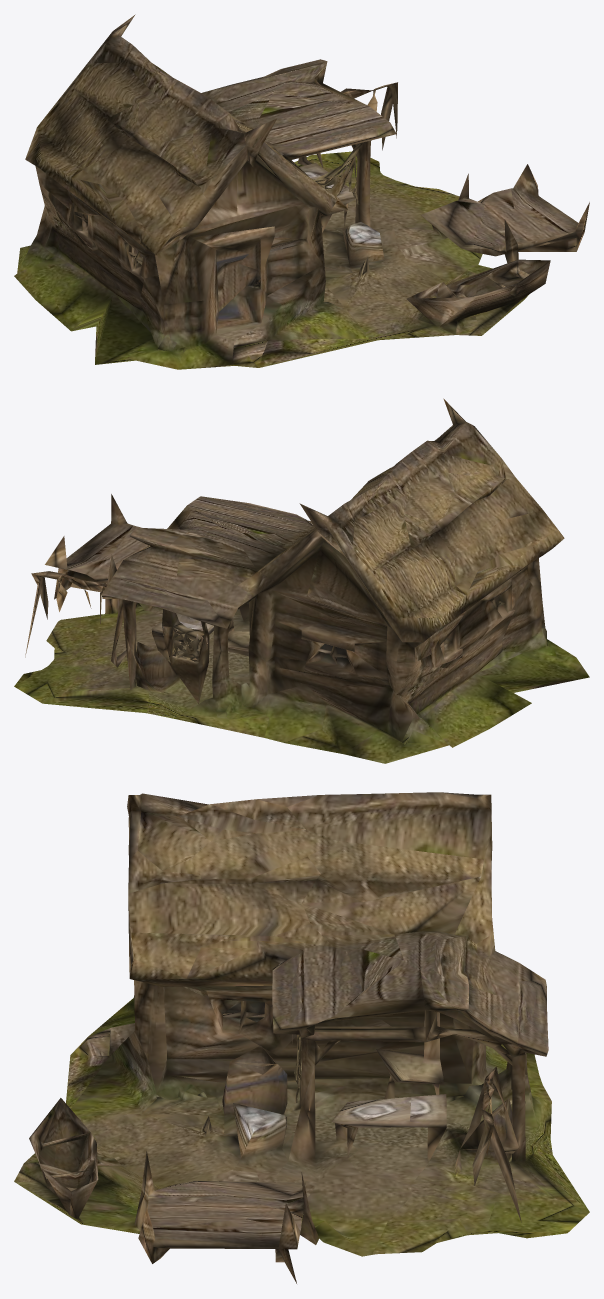
The model's file is fishery.glb.
3 views of the same model, one above another, from view 1: azimuth 30°, elevation 25°; view 2: azimuth 150°, elevation 25°; view 3: azimuth 270°, elevation 25° (orthographic). The views are drawn at different scales.
Visible parts, largest first — view 1: fishery; view 2: fishery; view 3: fishery.
Part boxes in pixels (x1,y1,x2,y2): fishery: [14, 14, 589, 369]; fishery: [14, 398, 589, 763]; fishery: [14, 792, 589, 1283].
Bounding box in the file's own units: 0.9938 × 0.4417 × 0.7903.
1 material, 1 textured.
